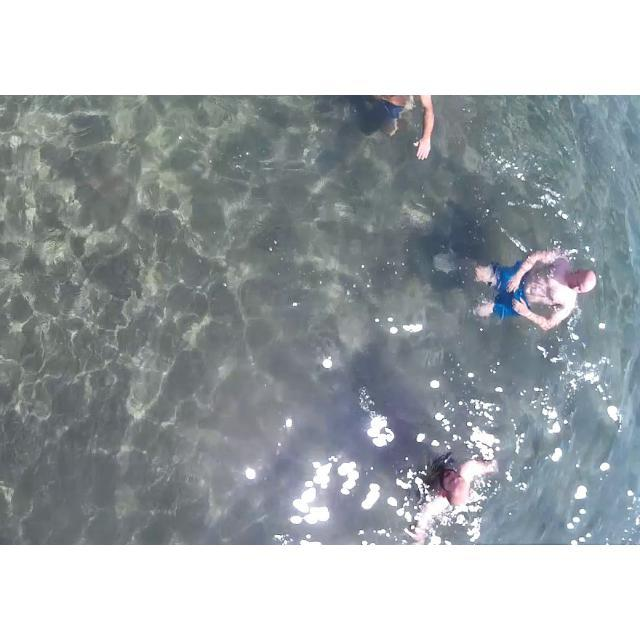human: (461, 232, 603, 357), (310, 95, 447, 188)
